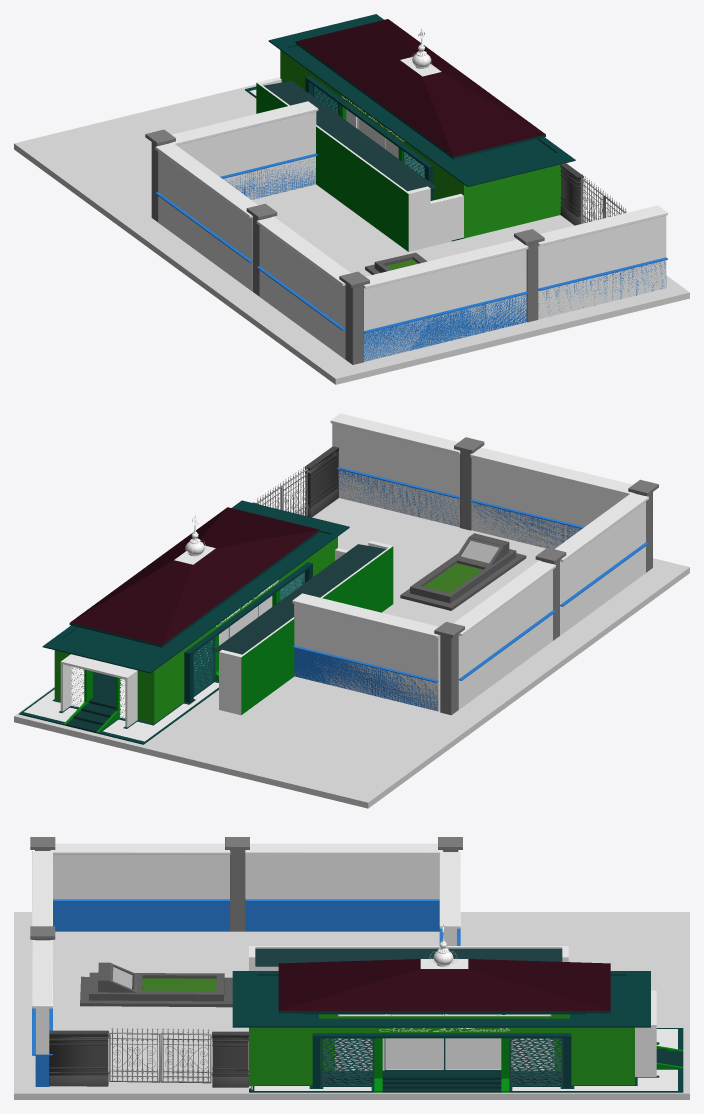
File: punden-optimized.glb
3 views of the same model, one above another, from view 1: azimuth 30°, elevation 25°; view 2: azimuth 150°, elevation 25°; view 3: azimuth 270°, elevation 25° (orthographic). The views are drawn at different scales.
Visible parts, largest first — view 1: Kubus, Object_8.018, wall_1_wall_0.004, wall_1_wall_0.002, Object_26, wall_1_wall_0.001, wall_1_wall_0.005, wall_1_wall_0.006, Object_15.016, Object_24, wall_1_wall_0.008, Object_5.016 (+11 smaller); view 2: Kubus, Object_8.018, wall_1_wall_0.001, Object_26, wall_1_wall_0.004, wall_1_wall_0.002, wall_1_wall_0.005, wall_1_wall_0.006, Object_24, wall_1_wall_0.010, Object_15.016, Object_5.016 (+17 smaller); view 3: Kubus, Object_8.018, Object_26, wall_1_wall_0.005, Object_15.016, wall_1_wall_0.006, wall_1_wall_0.007, wall_1_wall_0.003, Object_33.001, Object_34.002, Object_5.016, Fence_01_Pillar_LOD0_Fence_01_End_0 (+18 smaller).
Boxes of the visible parts, x1,y1,x2,y2 form: Kubus: (14, 84, 689, 384); Object_8.018: (296, 19, 545, 156); wall_1_wall_0.004: (364, 239, 528, 361); wall_1_wall_0.002: (538, 205, 667, 319); Object_26: (245, 14, 575, 241); wall_1_wall_0.001: (170, 101, 318, 199); wall_1_wall_0.005: (155, 142, 257, 291); wall_1_wall_0.006: (256, 216, 350, 359); Object_15.016: (280, 50, 562, 238); Object_24: (256, 83, 408, 251); wall_1_wall_0.008: (364, 291, 528, 361); Object_5.016: (263, 81, 437, 191); Kubus: (14, 498, 689, 808); Object_8.018: (70, 507, 319, 645); wall_1_wall_0.001: (292, 593, 440, 711); Object_26: (19, 500, 349, 744); wall_1_wall_0.004: (470, 447, 634, 548); wall_1_wall_0.002: (330, 413, 460, 527); wall_1_wall_0.005: (453, 561, 555, 709); wall_1_wall_0.006: (555, 493, 648, 635); Object_24: (64, 546, 393, 733); wall_1_wall_0.010: (292, 645, 438, 711); Object_15.016: (54, 536, 337, 723); Object_5.016: (212, 544, 386, 654); Kubus: (14, 912, 689, 1099); Object_8.018: (278, 959, 610, 1010); Object_26: (232, 966, 683, 1092); wall_1_wall_0.005: (245, 843, 443, 899); Object_15.016: (249, 1014, 634, 1086); wall_1_wall_0.006: (50, 843, 230, 899); wall_1_wall_0.007: (245, 899, 439, 931); wall_1_wall_0.003: (53, 899, 230, 931); Object_33.001: (337, 1014, 551, 1069); Object_34.002: (320, 1038, 683, 1092); Object_5.016: (255, 948, 562, 966); Fence_01_Pillar_LOD0_Fence_01_End_0: (49, 1030, 108, 1086).
Bounding box in the file's own units: 5.27 × 1.95 × 8.29.
